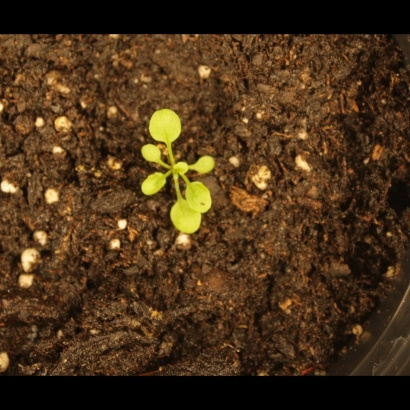leaf: (163, 195, 207, 235), (147, 107, 189, 146), (184, 181, 217, 217), (141, 171, 167, 200), (137, 142, 167, 166), (193, 152, 218, 179), (167, 158, 192, 183)
